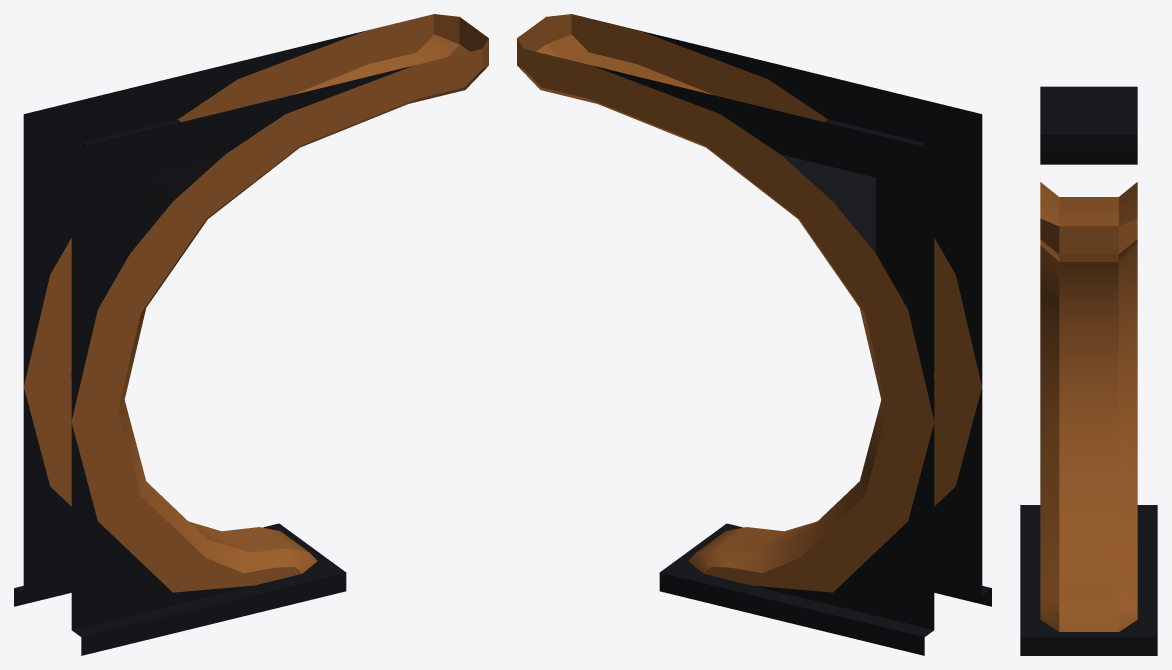
File: 10_Pilar_01.fbx
3 views of the same model, side by side, from view 1: azimuth 30°, elevation 25°; view 2: azimuth 150°, elevation 25°; view 3: azimuth 270°, elevation 25° (orthographic). The views are drawn at different scales.
Parts seen in each view (by area): view 1: Pilar06; view 2: Pilar06; view 3: Pilar06.
Boxes of the visible parts, bbox=[...] form: Pilar06: bbox=[14, 14, 488, 655]; Pilar06: bbox=[517, 14, 991, 655]; Pilar06: bbox=[1020, 86, 1157, 655].
Bounding box in the file's own units: 583 × 652 × 159.
